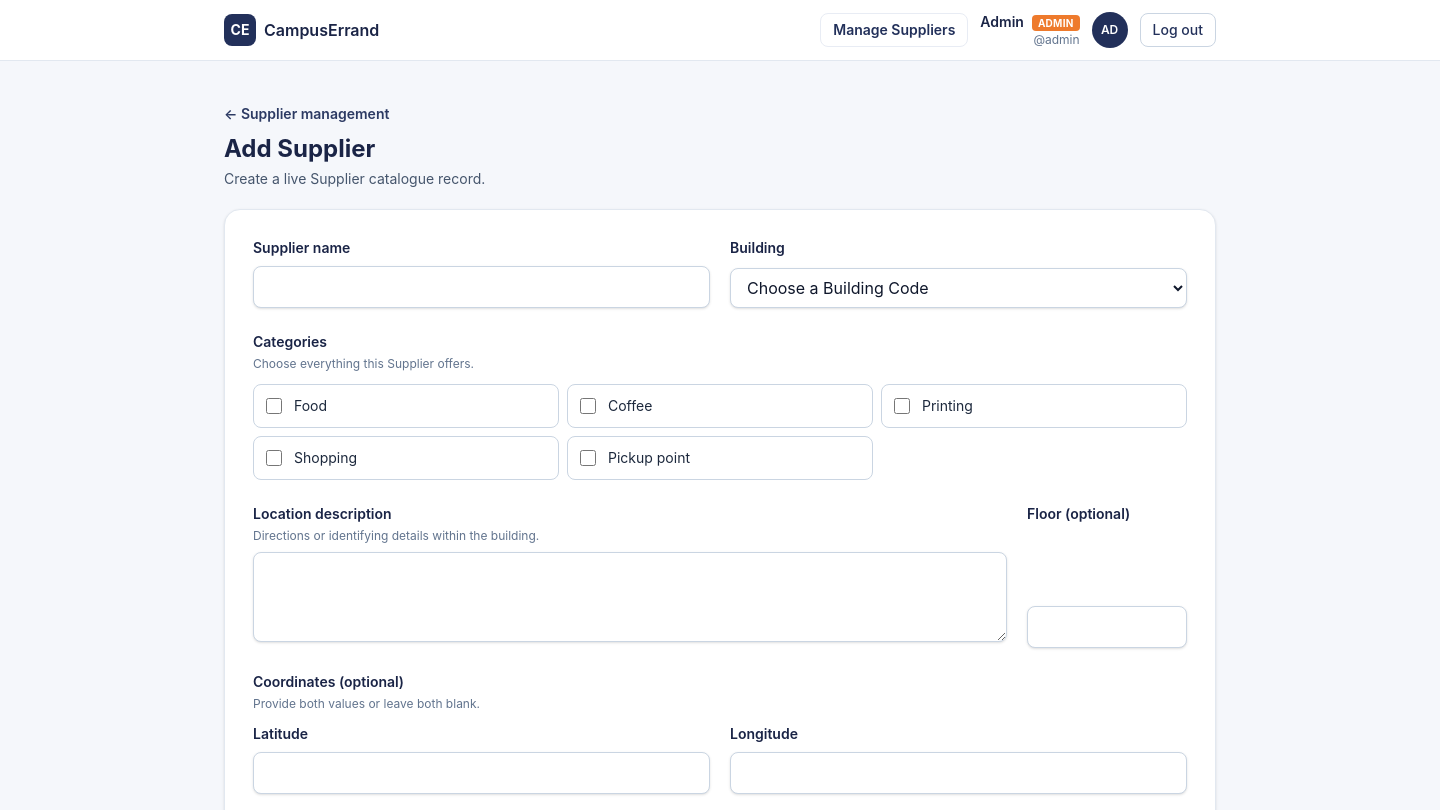
Test: SupplierFormPage › shows server field errors without clearing valid create values
The image size is (1440, 810).
Type "My new Supplier" into the field labelled "Supplier name" at (482, 287), box [253,266,710,308]
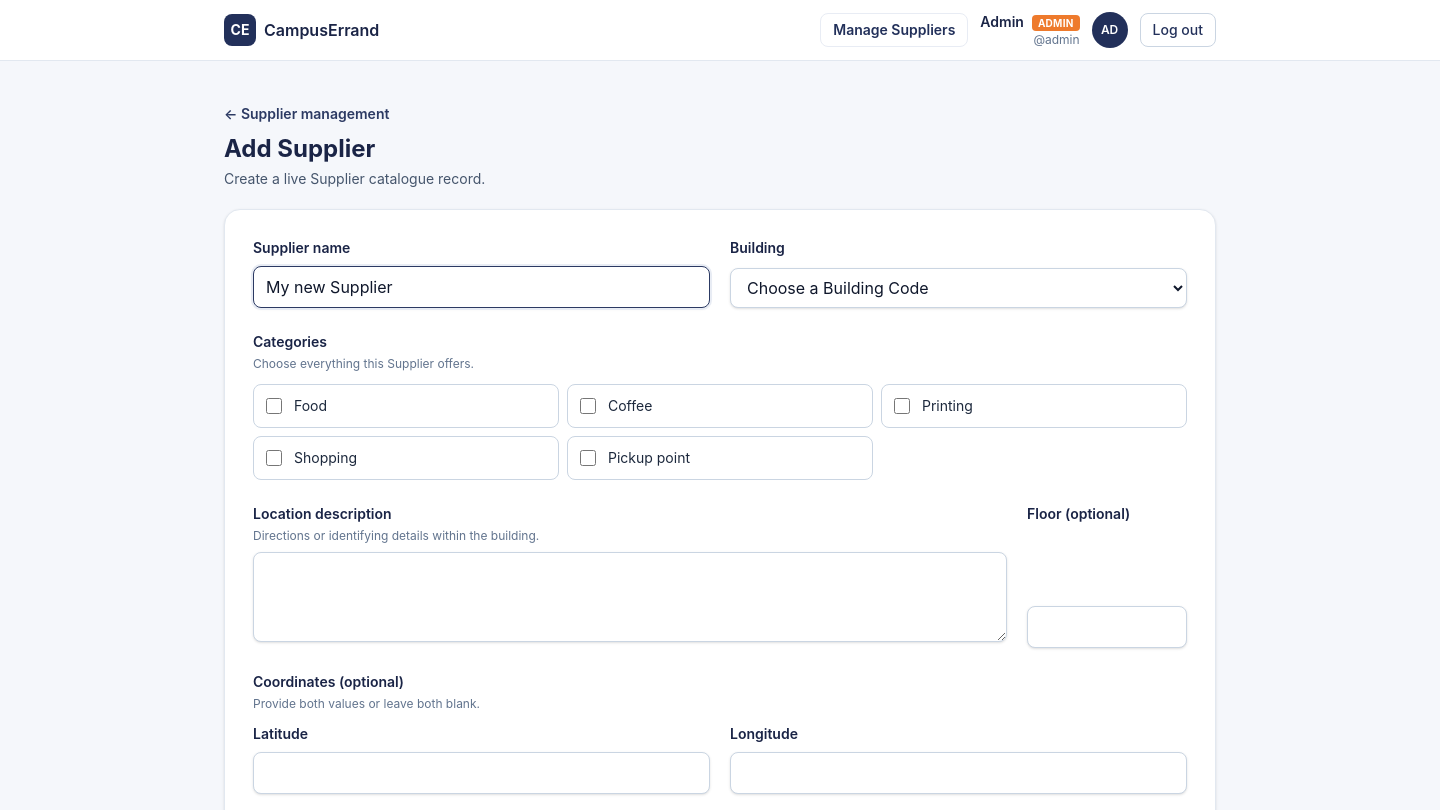
Select "COM2 (COM2)" in the dropdown labelled "Building" at (958, 288), box [730,268,1187,308]
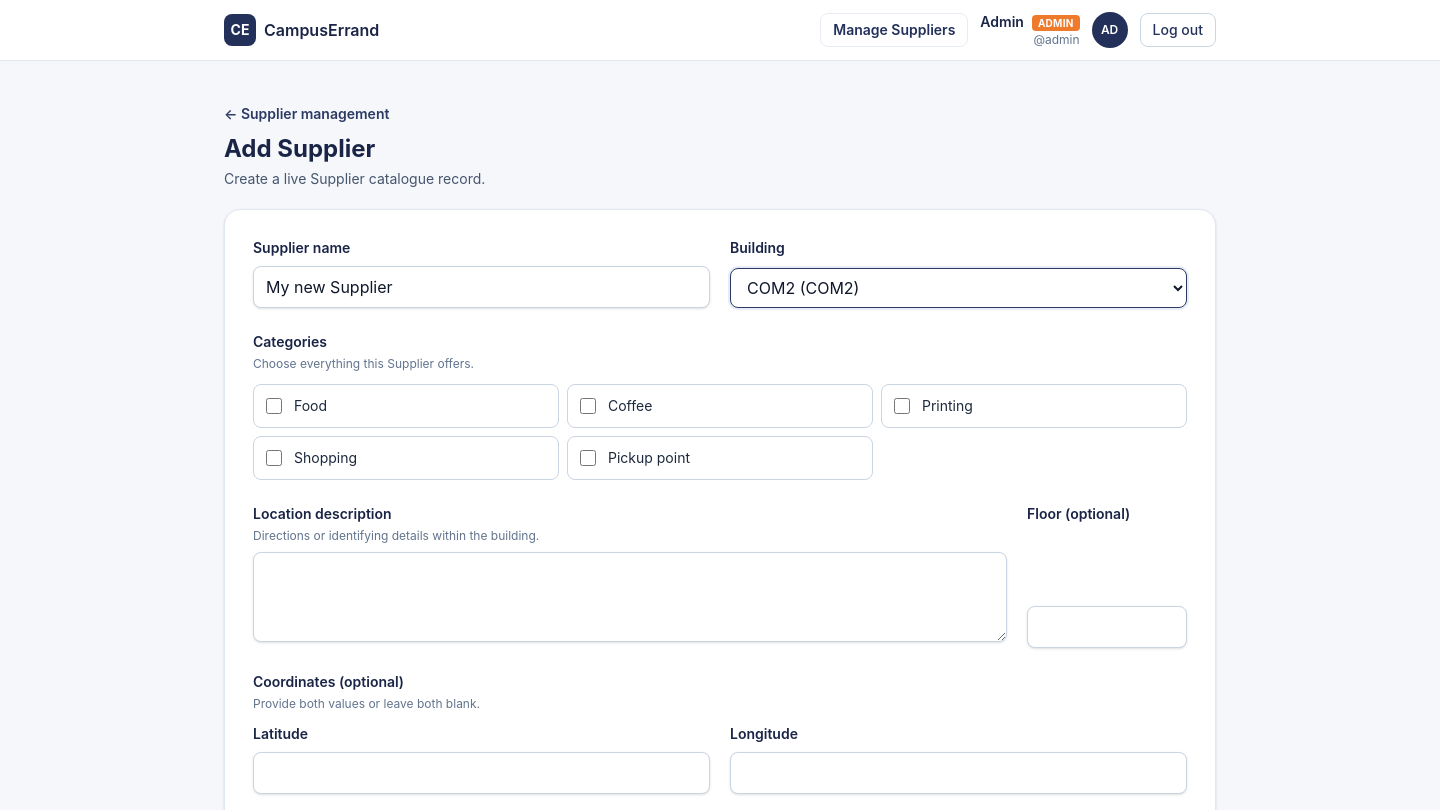
Click the checkbox labelled "Shopping" at (274, 458), box [266,450,282,466]
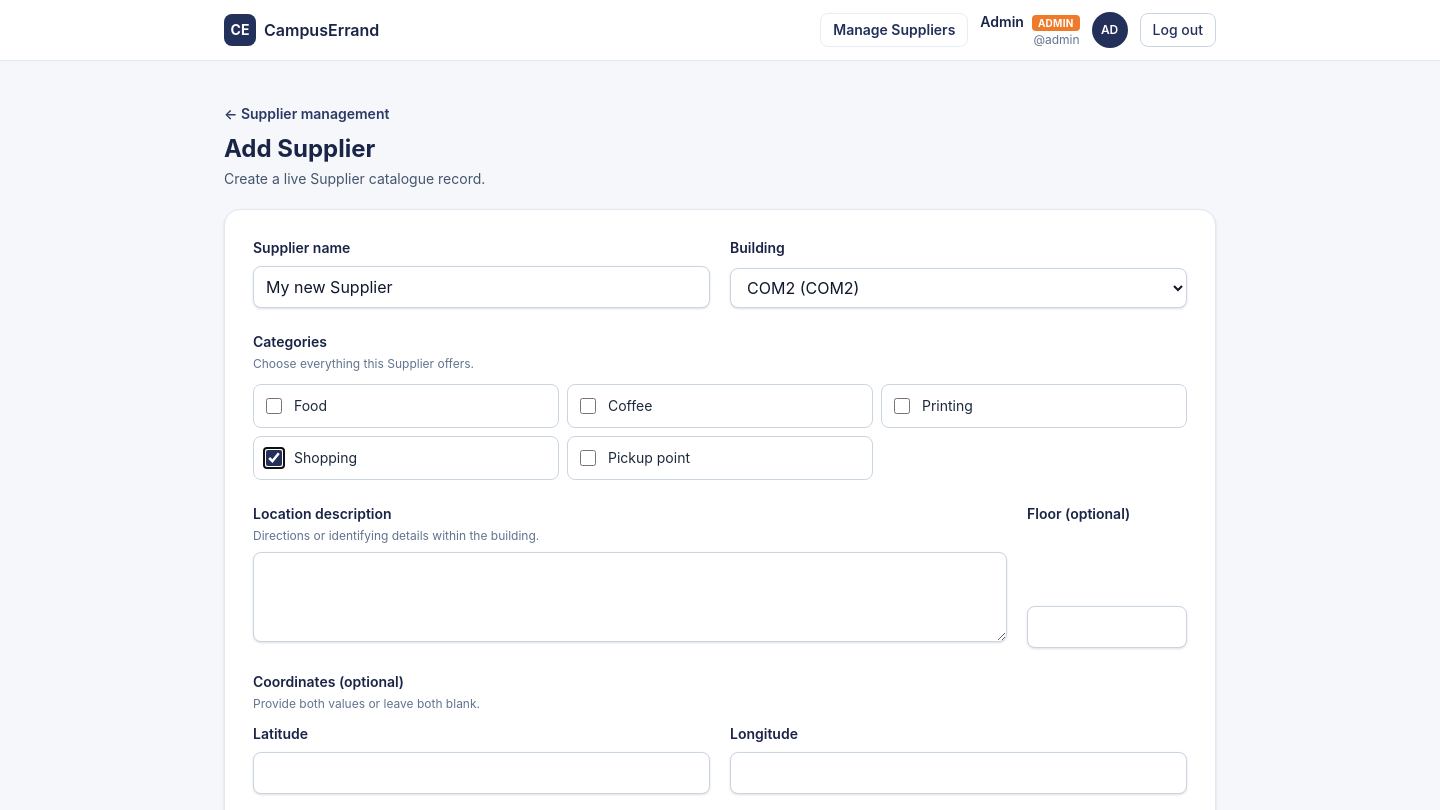
Type "Foyer" into the text box labelled "Location description" at (630, 597), box [253,552,1007,642]
(page scrolled)
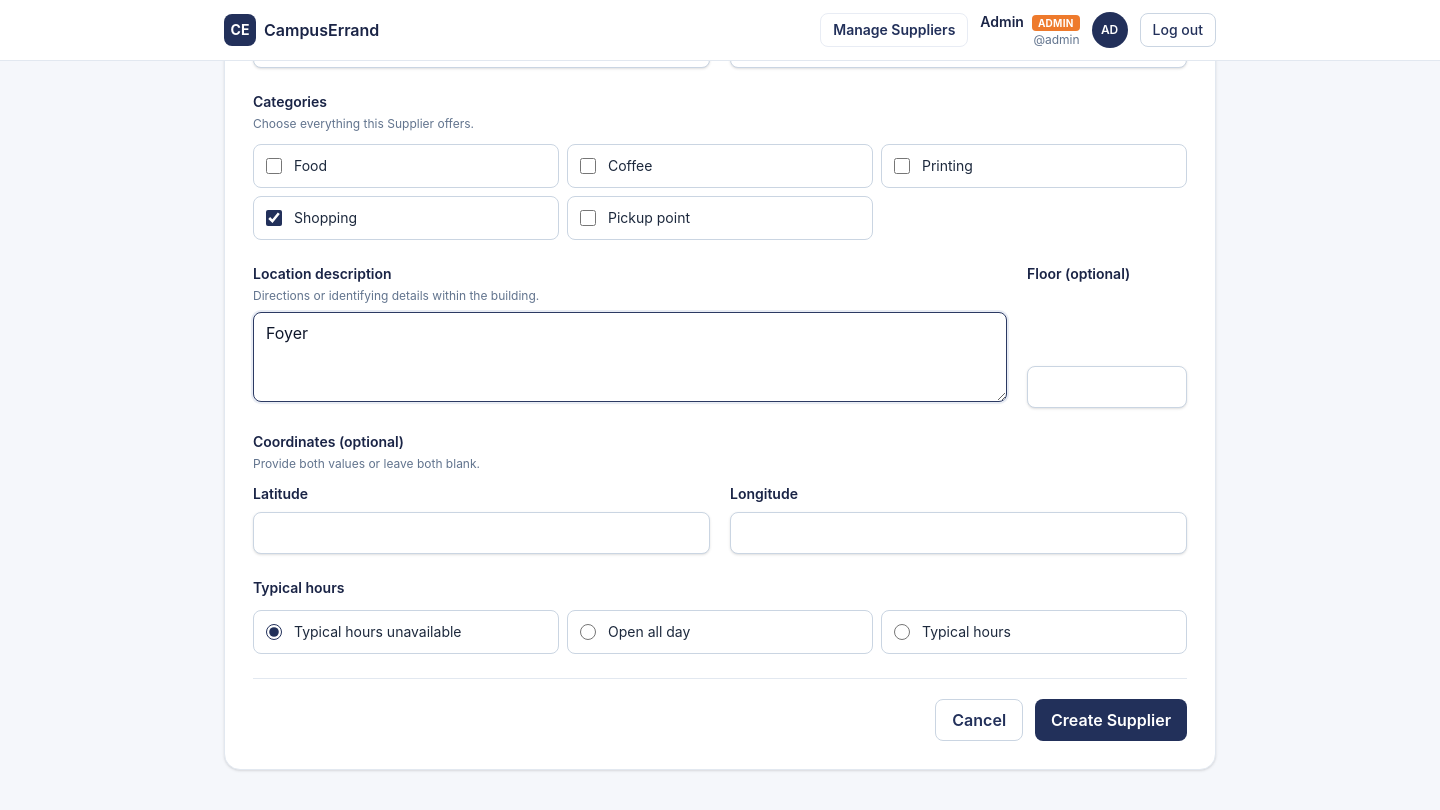
Click the button "Create Supplier" at (1111, 720), box [1035,699,1187,741]
(page scrolled)
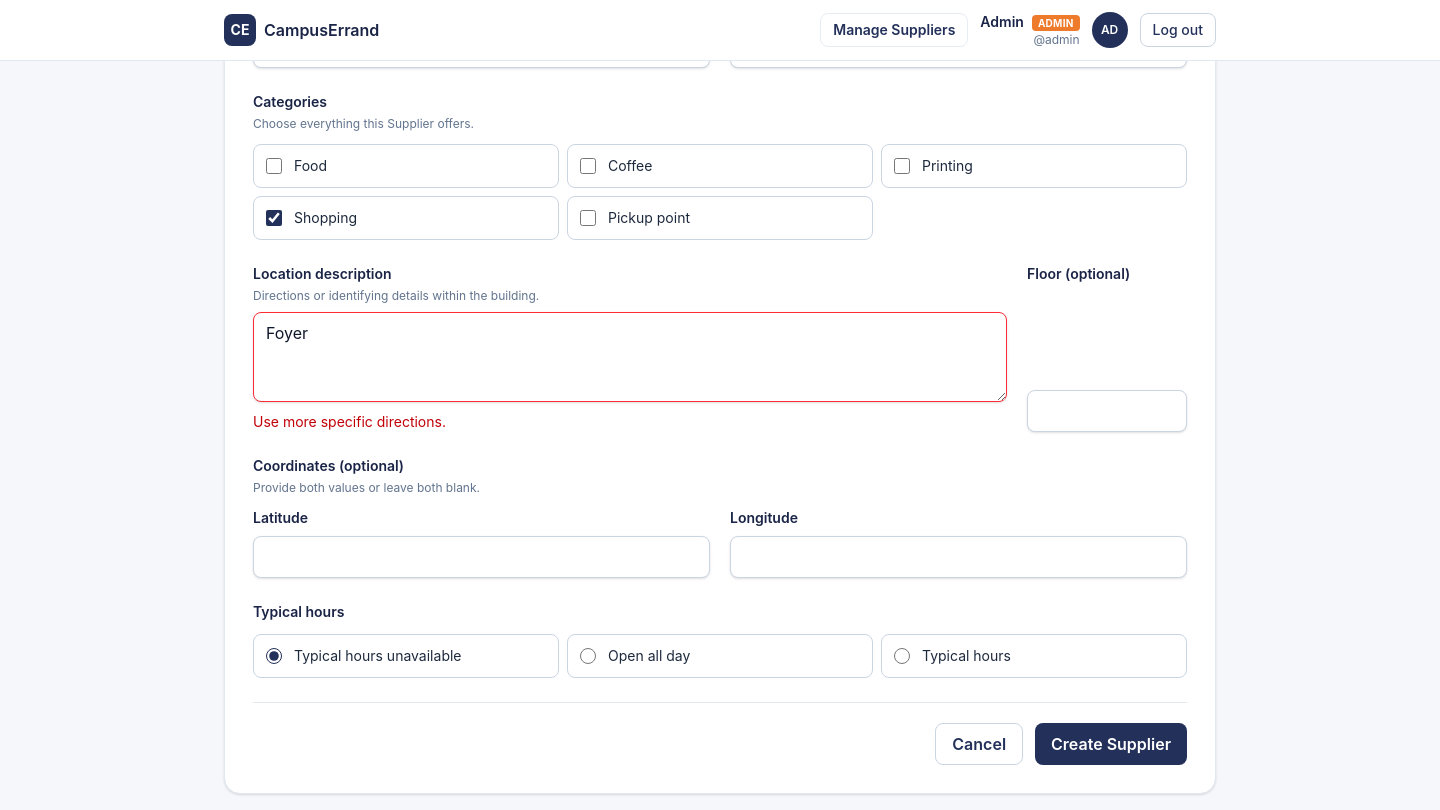
expect the text "Use more specific directions." is shown: met, box [253,413,446,430]
